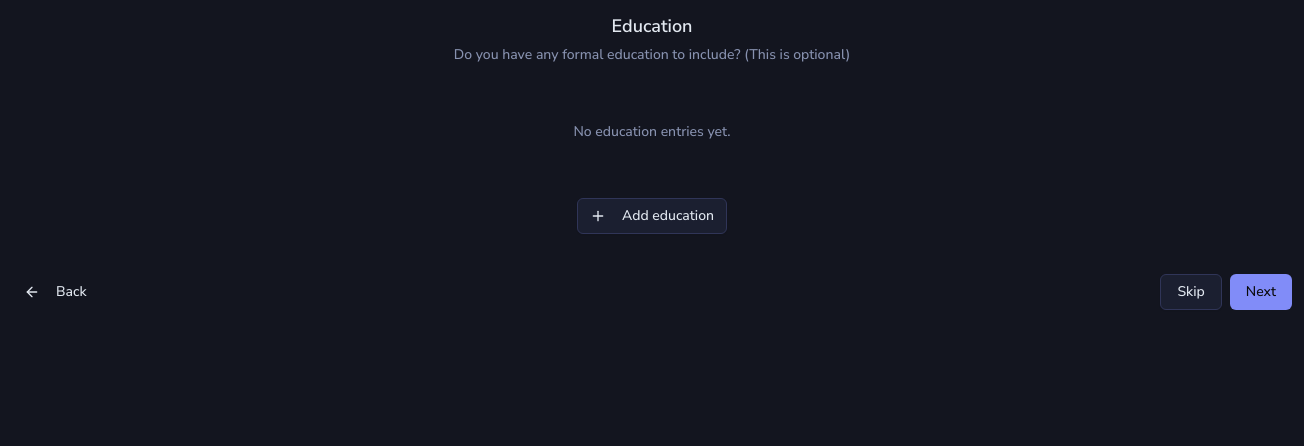
EducationStep › add education flow › shows form when Add education is clicked
Click the button "Add education".
click(652, 216)  # box [577,198,727,234]
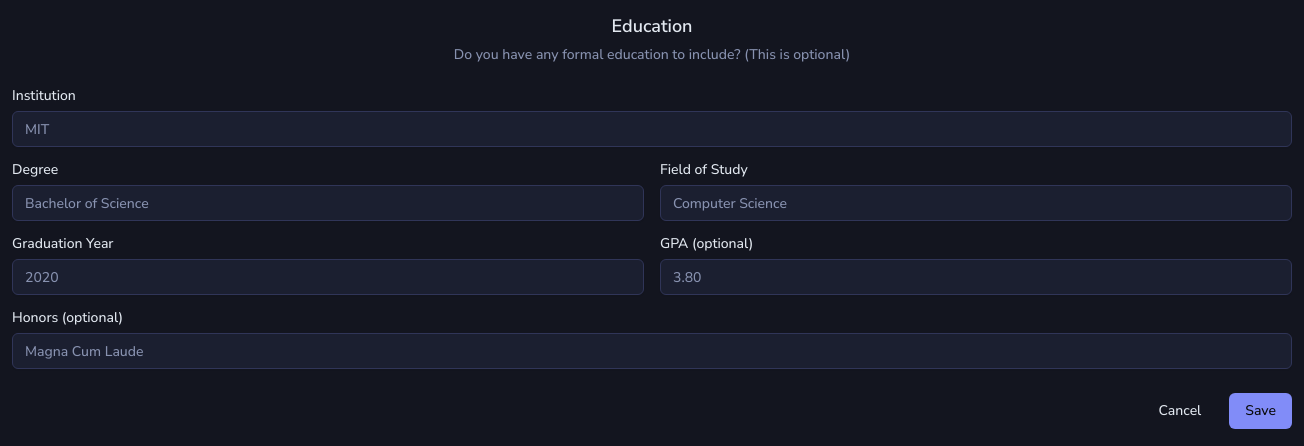
Now the element with test id "education-form" is shown
